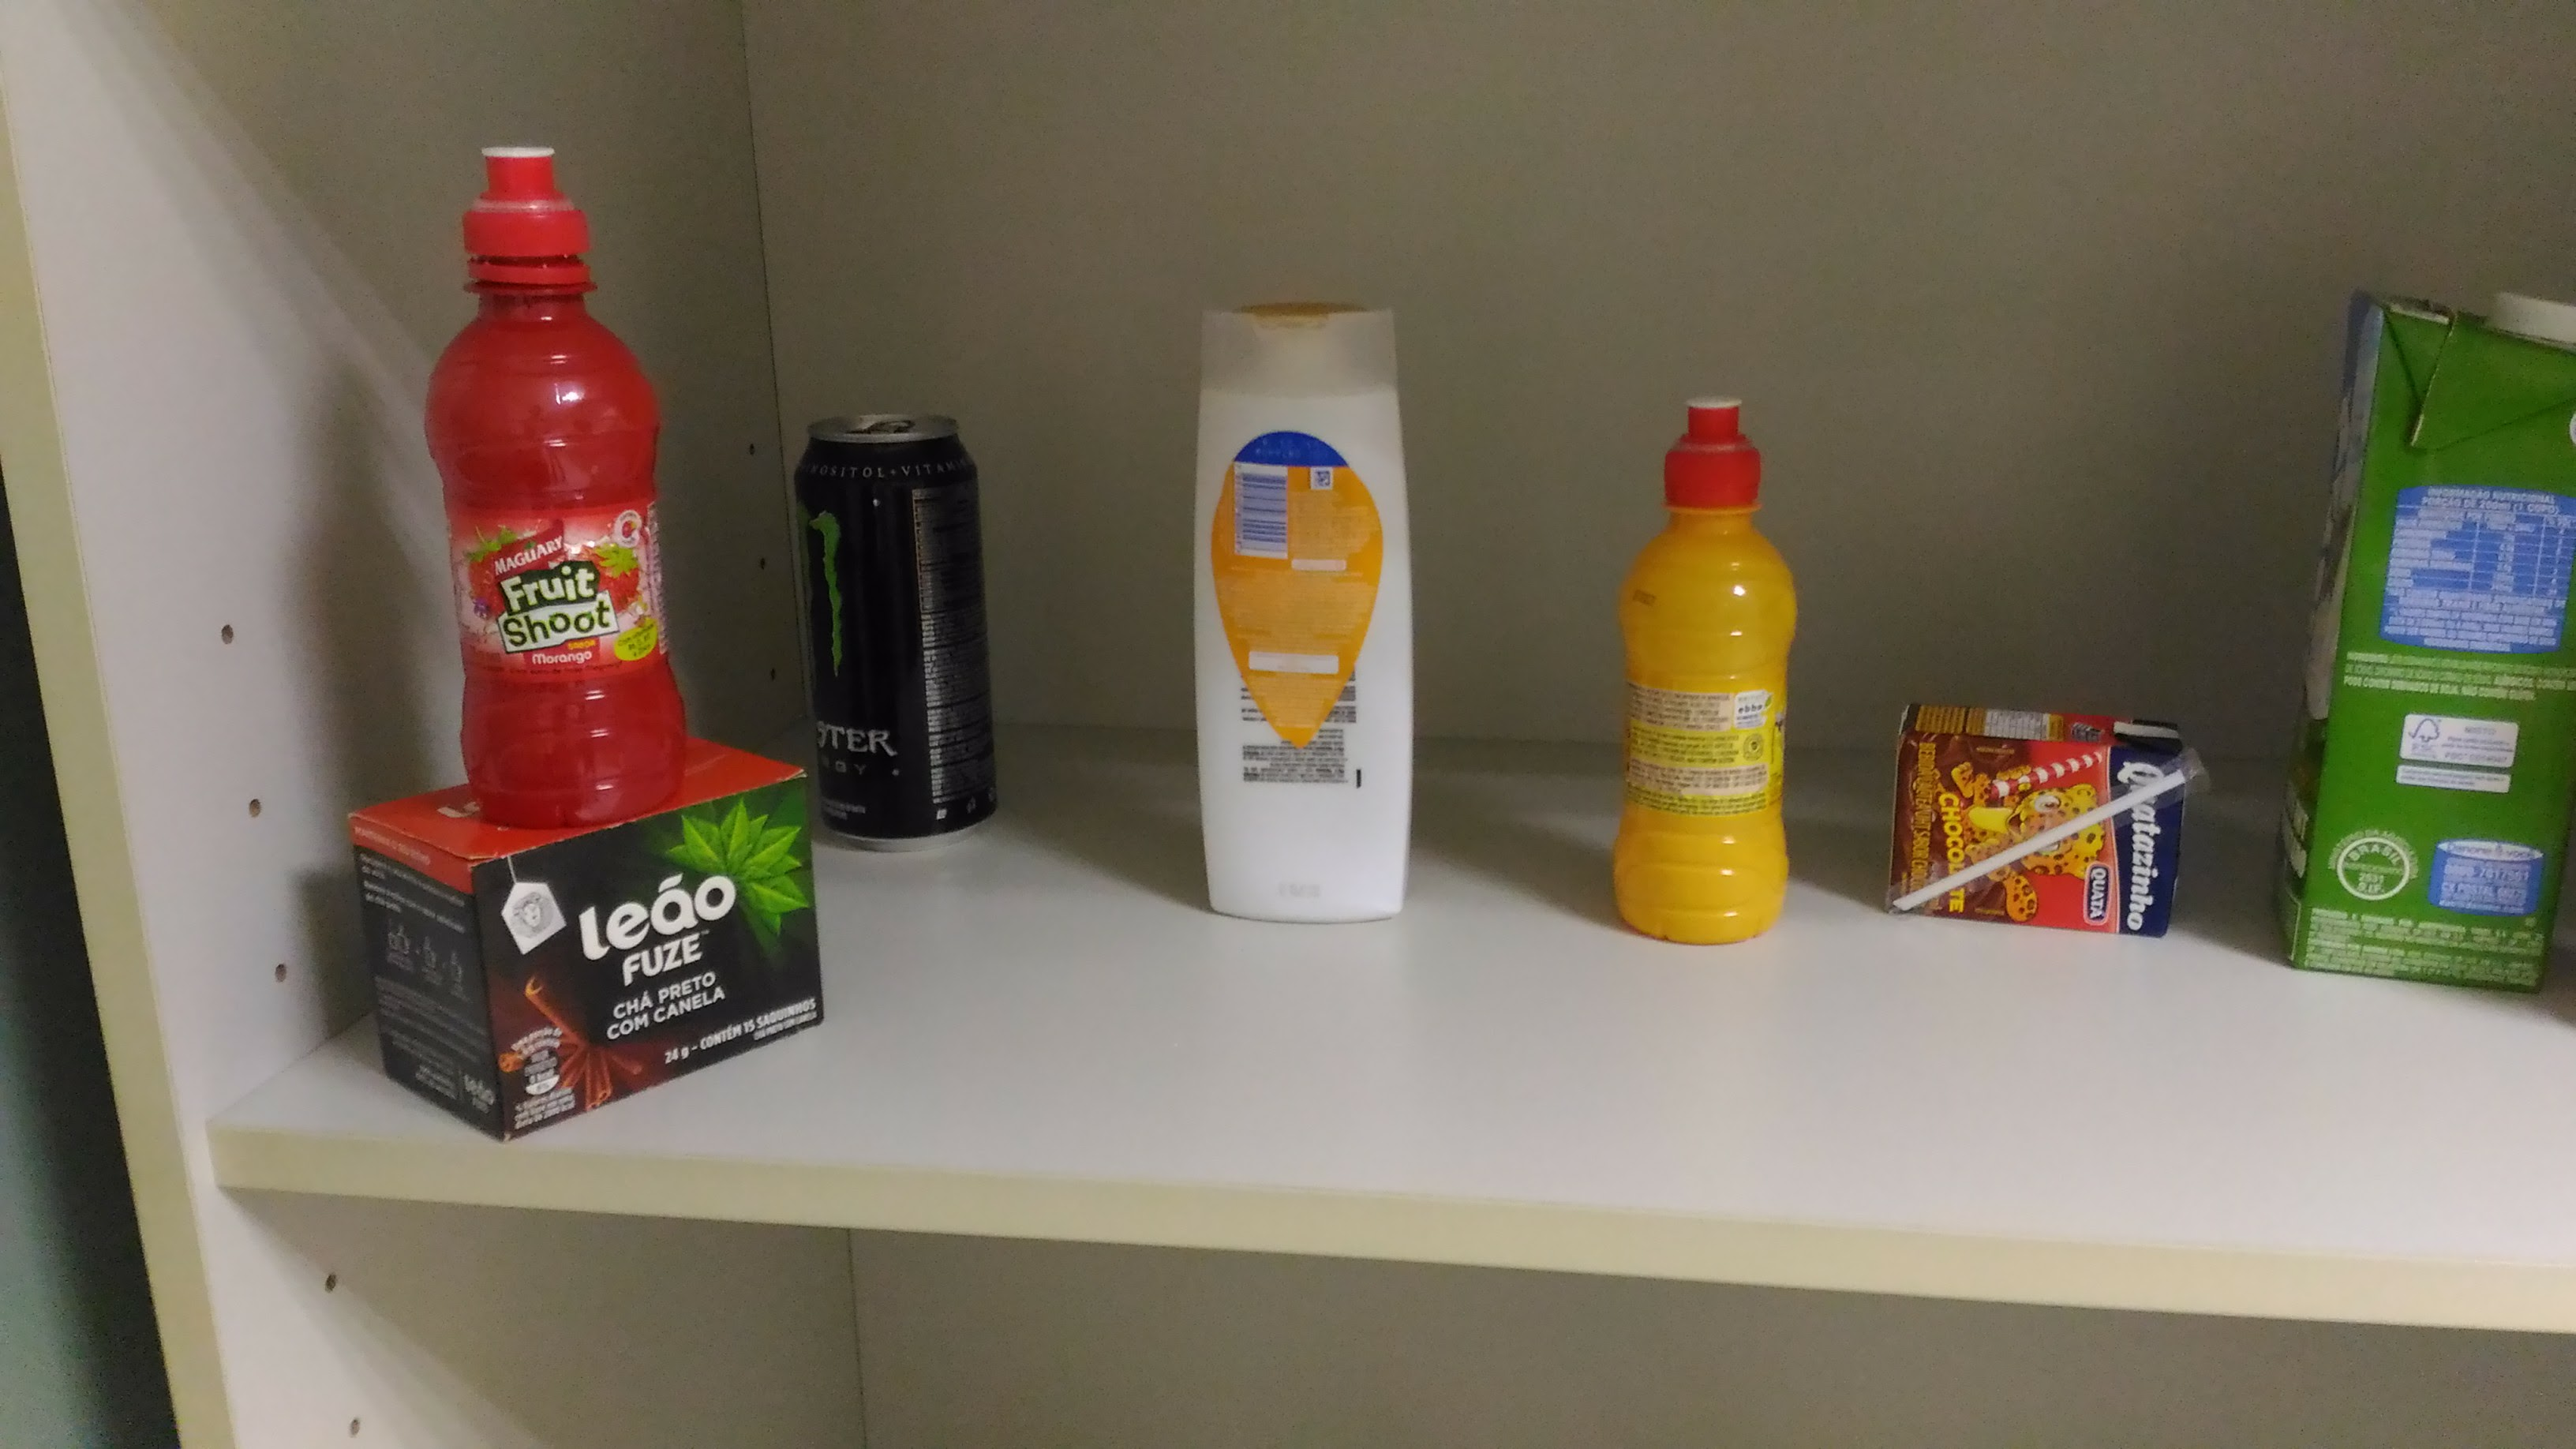chocolate_milk: (1874, 697, 2212, 943)
milk_box: (2263, 276, 2576, 1003)
monster: (786, 407, 1012, 863)
red_juice: (418, 134, 702, 835)
shampoo: (1184, 288, 1422, 925)
tea_box: (338, 717, 837, 1148)
yellow_juice: (1598, 377, 1810, 945)
